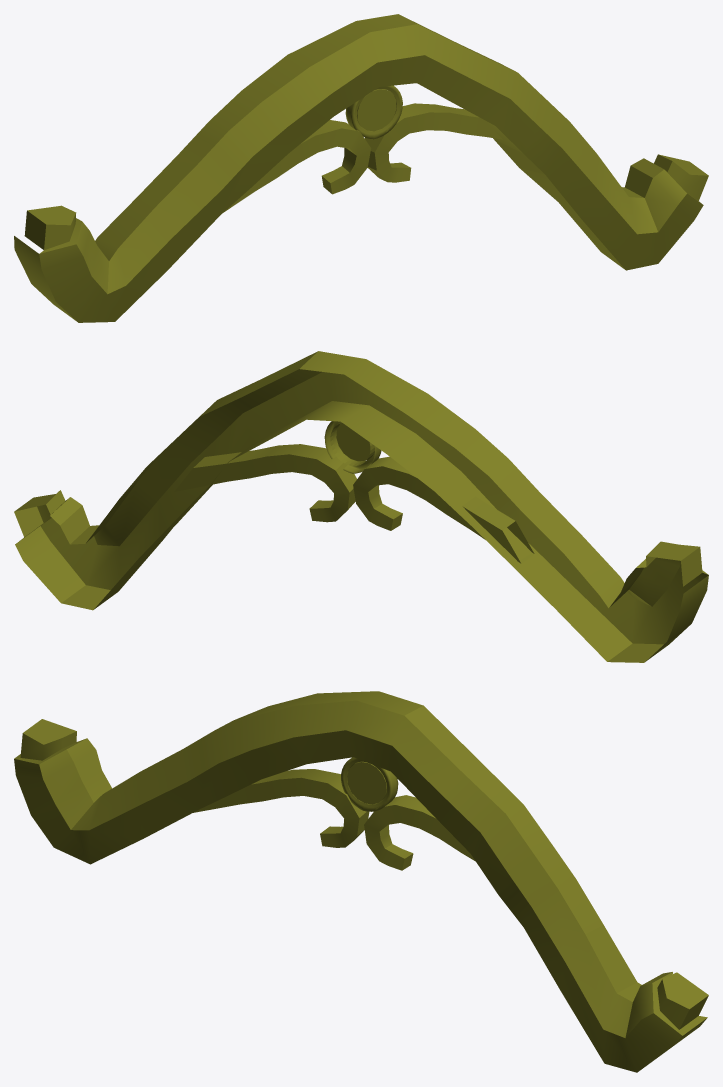
File: gate tope.fbx
The picture shows the model from 3 angles, top to bottom: view 1: azimuth 30°, elevation 25°; view 2: azimuth 150°, elevation 25°; view 3: azimuth 330°, elevation 25°; orthographic projection.
Parts seen in each view (by area): view 1: gate_top1; view 2: gate_top1; view 3: gate_top1.
Part boxes in pixels (x1,y1,x2,y2): gate_top1: (14, 14, 708, 322); gate_top1: (14, 351, 708, 662); gate_top1: (14, 691, 708, 1072).
Bounding box in the file's own units: 6.41e-05 × 2.72e-05 × 5.71e-06.
